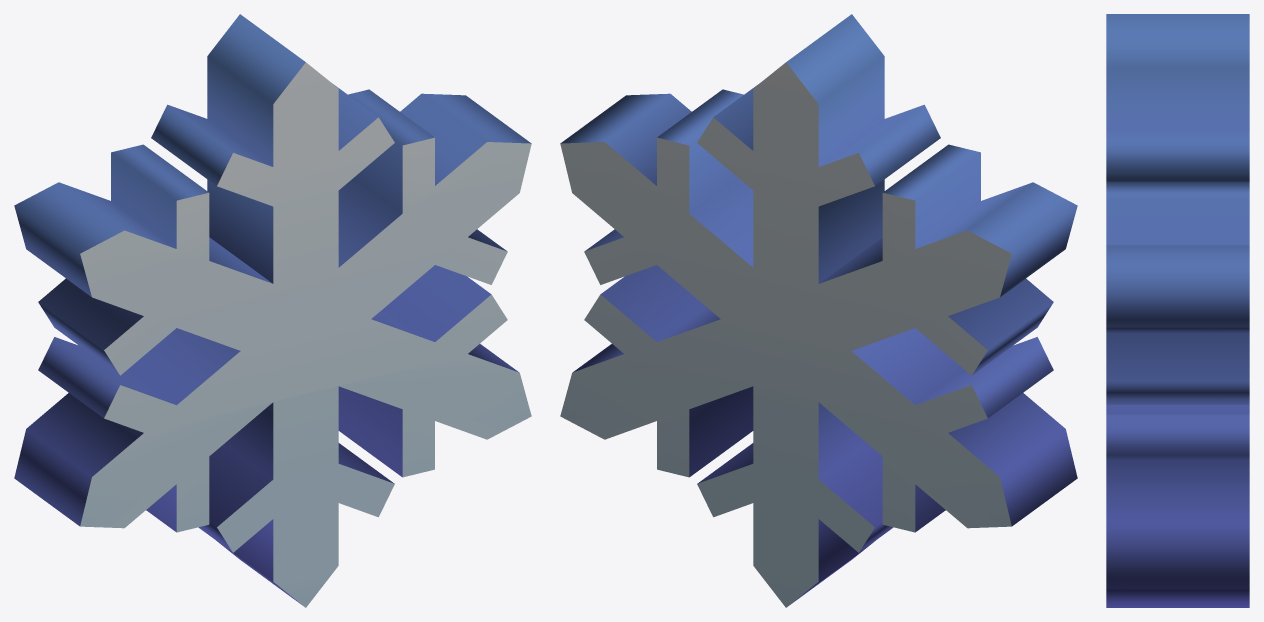
File: snowflake-a.glb
The picture shows the model from 3 angles, left to right: view 1: azimuth 30°, elevation 25°; view 2: azimuth 150°, elevation 25°; view 3: azimuth 270°, elevation 25°; orthographic projection. The views are drawn at different scales.
Visible parts, largest first — view 1: snowflake-a; view 2: snowflake-a; view 3: snowflake-a.
Part boxes in pixels (left/top/right/bottom): snowflake-a: left=14, top=14, right=531, bottom=607; snowflake-a: left=560, top=14, right=1077, bottom=607; snowflake-a: left=1106, top=14, right=1249, bottom=607.
Size of the model in its own units: 0.3464 by 0.4 by 0.0875.
